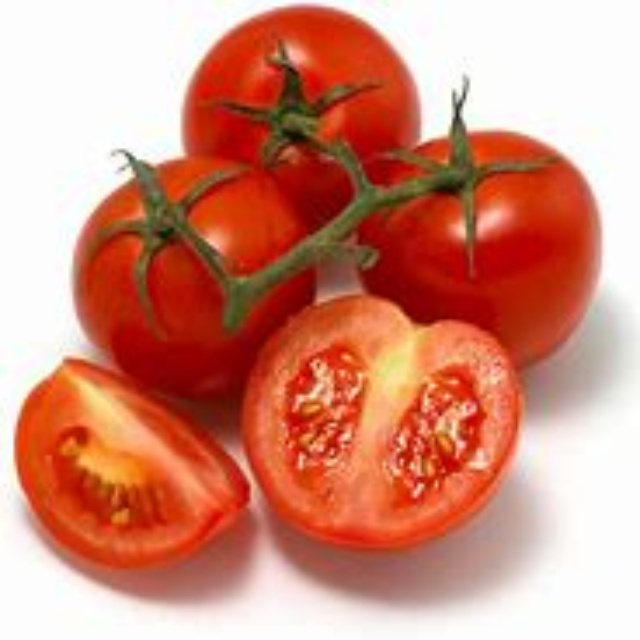tomato: (243, 287, 524, 554), (357, 132, 600, 370), (76, 160, 322, 384), (19, 359, 256, 579), (195, 7, 409, 223)
